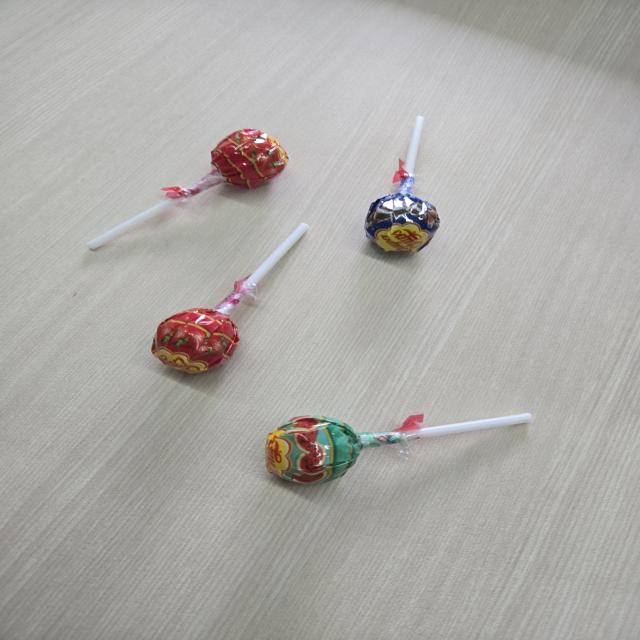lollipop: (82, 129, 299, 256), (150, 218, 315, 380), (260, 405, 538, 495), (357, 112, 460, 261)
